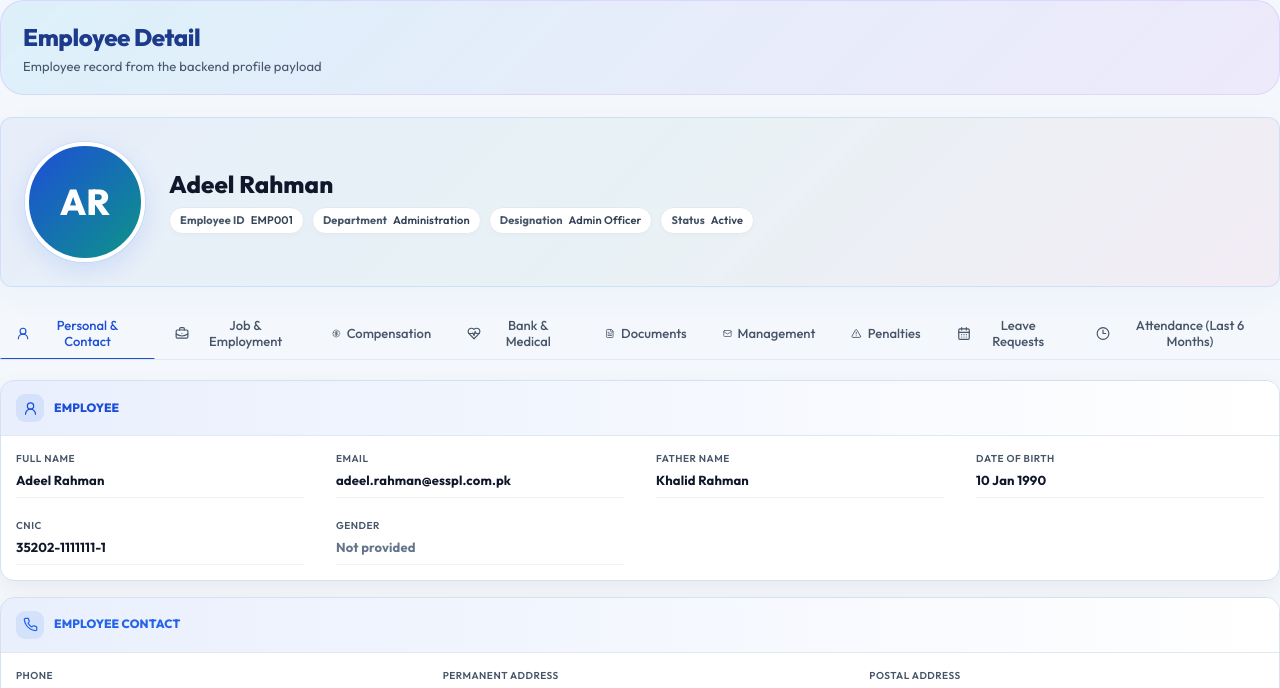
Test case: EmployeeDetail › hides account creation fields when the employee already has a login account
The width and height of the screenshot is (1280, 688).
Click the button "Management" at (769, 333), box x1=707 y1=307 x2=831 y2=359
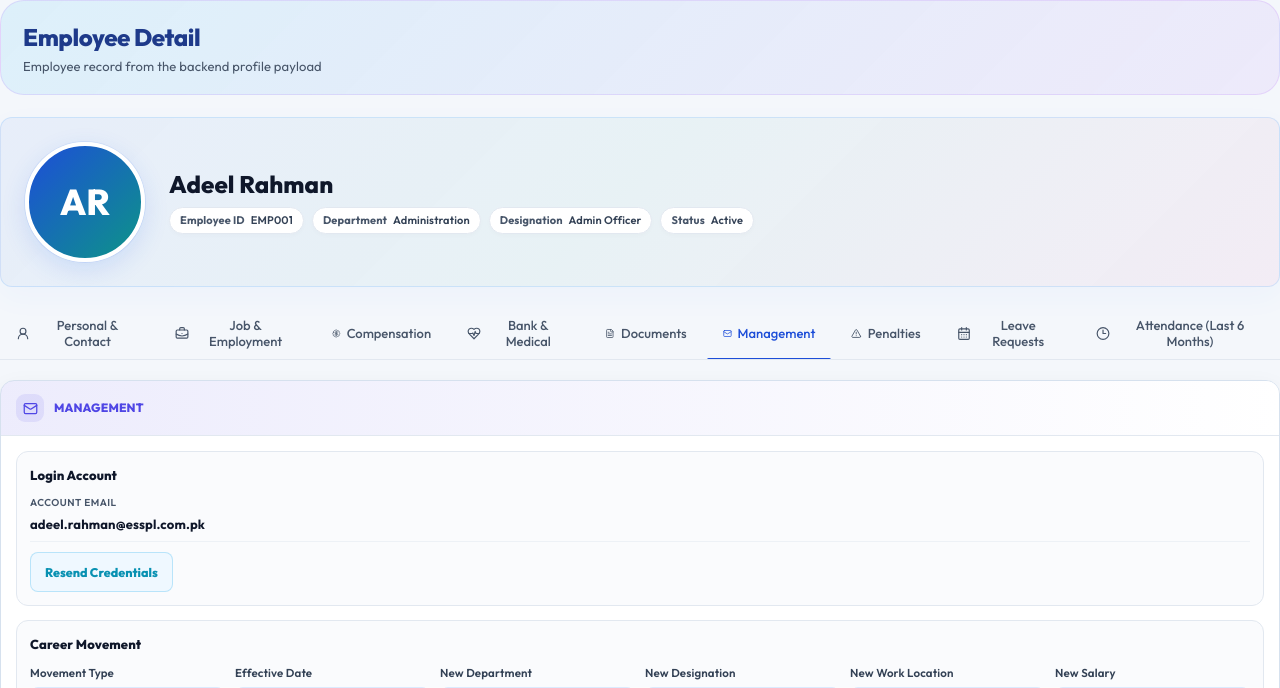
Expected: the button "Resend Credentials" is shown, x1=30 y1=552 x2=173 y2=592
